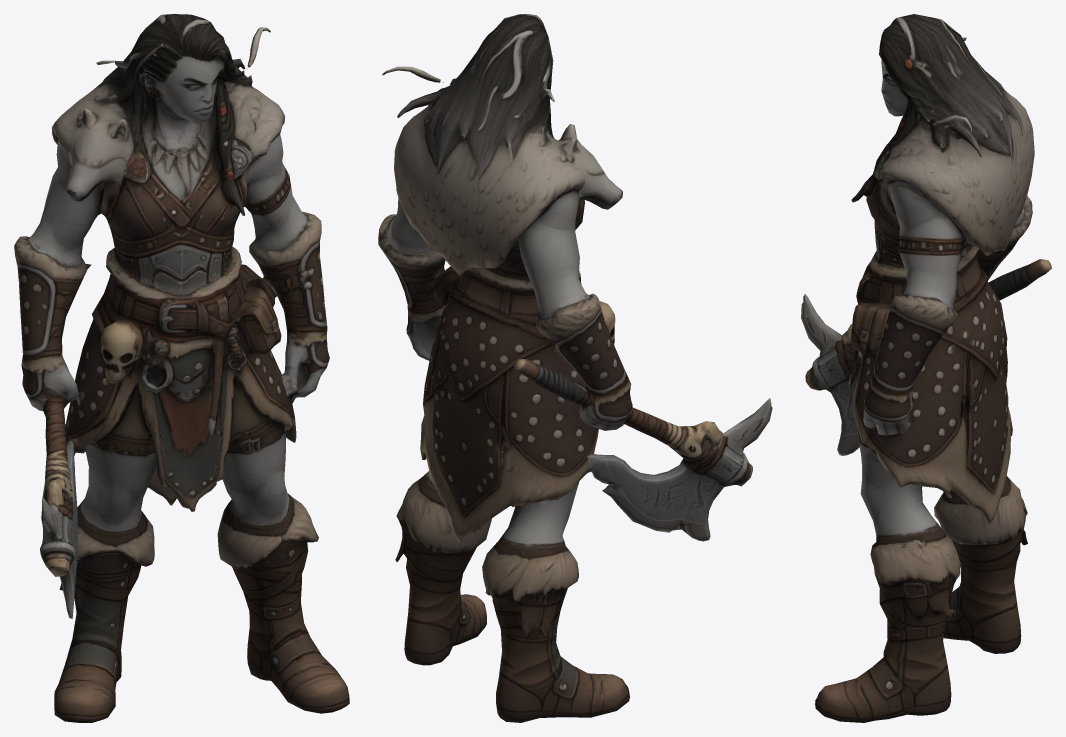
Rendered from Barbara.glb.
3 renders of one model, left to right at view 1: azimuth 30°, elevation 25°; view 2: azimuth 150°, elevation 25°; view 3: azimuth 270°, elevation 25°, orthographic. The views are drawn at different scales.
Parts seen in each view (by area): view 1: tripo_node_083815d6-2c63-4f08-9e24-7f4927dd7593; view 2: tripo_node_083815d6-2c63-4f08-9e24-7f4927dd7593; view 3: tripo_node_083815d6-2c63-4f08-9e24-7f4927dd7593.
Part boxes in pixels (x1,y1,x2,y2): tripo_node_083815d6-2c63-4f08-9e24-7f4927dd7593: [14, 14, 349, 722]; tripo_node_083815d6-2c63-4f08-9e24-7f4927dd7593: [378, 14, 772, 722]; tripo_node_083815d6-2c63-4f08-9e24-7f4927dd7593: [801, 14, 1051, 722].
Bounding box in the file's own units: 0.5199 × 0.9985 × 0.3507.
1 material, 1 textured.
